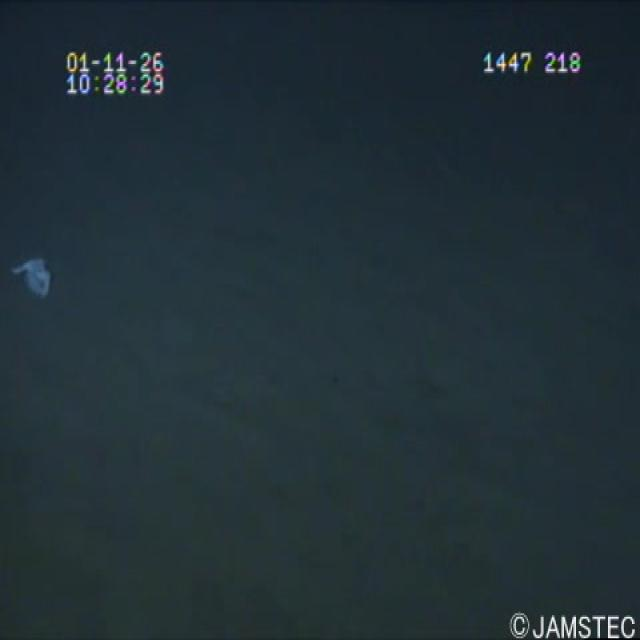plastic: (12, 230, 61, 316)
